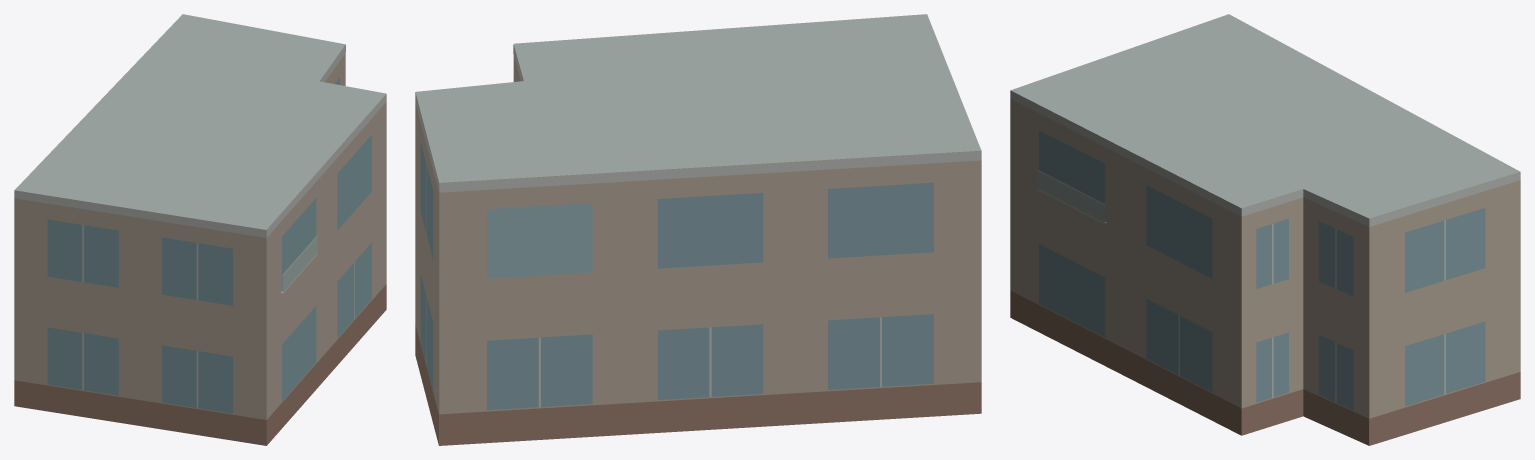
The model's file is survey-upis-33011210.glb.
3 renders of one model, left to right at view 1: azimuth 30°, elevation 25°; view 2: azimuth 150°, elevation 25°; view 3: azimuth 270°, elevation 25°, orthographic. The views are drawn at different scales.
Visible parts, largest first — view 1: survey-upis-33011210.tmp; view 2: survey-upis-33011210.tmp; view 3: survey-upis-33011210.tmp.
Part boxes in pixels (box(x1,y1,x2,y2)): survey-upis-33011210.tmp: box(14, 14, 386, 445); survey-upis-33011210.tmp: box(415, 14, 981, 445); survey-upis-33011210.tmp: box(1010, 14, 1520, 445).
Size of the model in its own units: 12.75 by 6.6 by 13.44.
